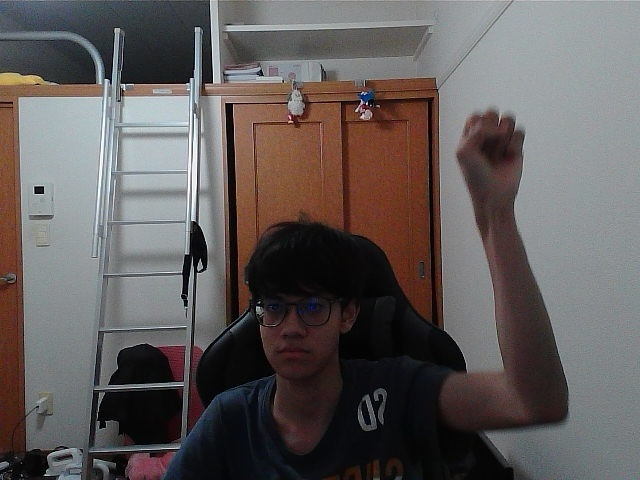closed_palm: (469, 114, 516, 199)
